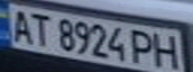2: (87, 21, 109, 59)
4: (106, 25, 130, 62)
8: (51, 16, 75, 52)
9: (69, 19, 93, 55)
A: (3, 7, 36, 44)
H: (151, 30, 184, 70)
P: (127, 27, 160, 66)
T: (27, 11, 57, 47)
